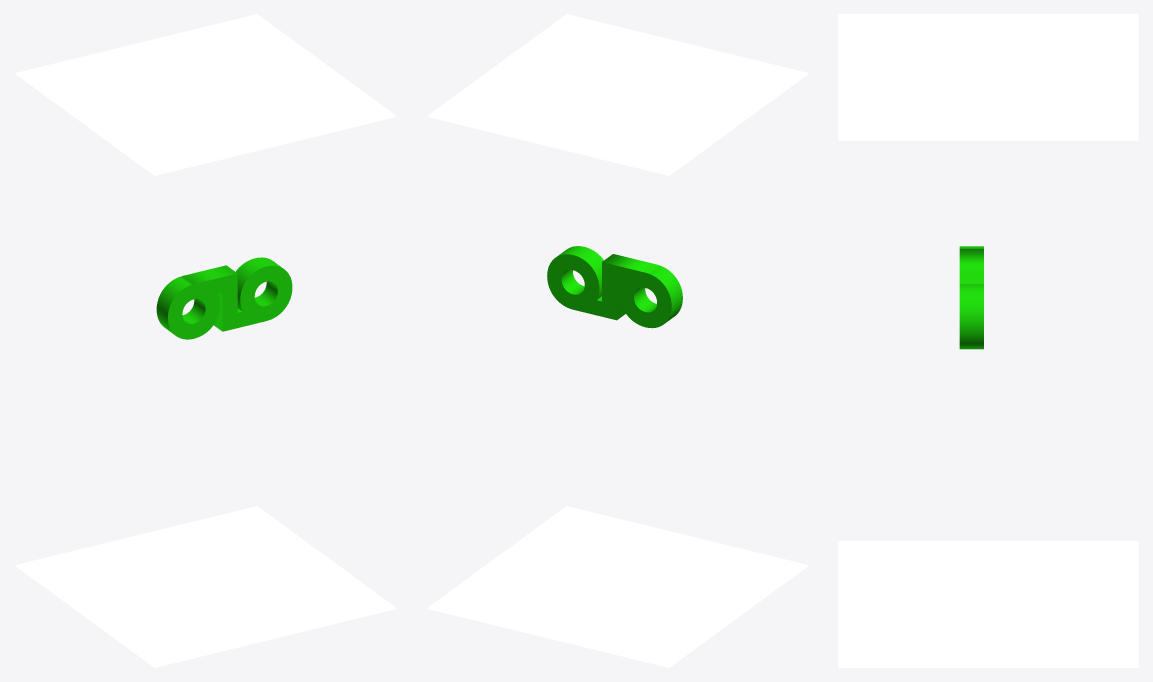
Rendered from SimboloVerdeZOIO3D-2color2.glb.
The picture shows the model from 3 angles, left to right: view 1: azimuth 30°, elevation 25°; view 2: azimuth 150°, elevation 25°; view 3: azimuth 270°, elevation 25°; orthographic projection. The views are drawn at different scales.
Parts seen in each view (by area): view 1: Plane, Plane.001, Curve; view 2: Plane, Plane.001, Curve; view 3: Plane, Plane.001, Curve.
Boxes of the visible parts, left/top/right/bottom form: Plane: left=15, top=14, right=397, bottom=175; Plane.001: left=14, top=506, right=396, bottom=667; Curve: left=156, top=257, right=292, bottom=339; Plane: left=426, top=14, right=808, bottom=175; Plane.001: left=427, top=506, right=809, bottom=667; Curve: left=547, top=246, right=682, bottom=328; Plane: left=838, top=14, right=1138, bottom=140; Plane.001: left=838, top=541, right=1138, bottom=667; Curve: left=959, top=246, right=983, bottom=349.
Bounding box in the file's own units: 5.53 × 10.71 × 5.53.
